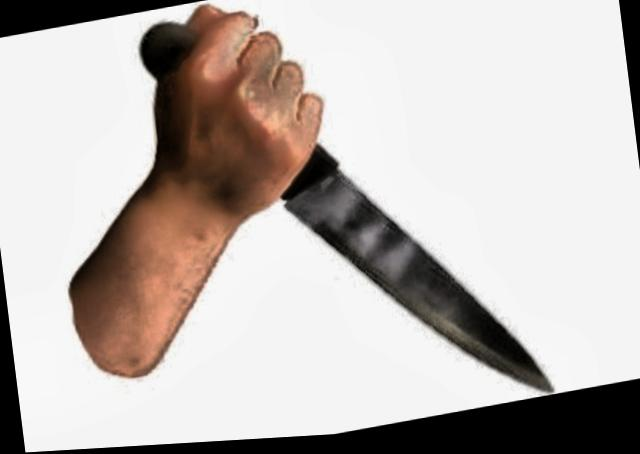knife: (211, 41, 560, 444)
